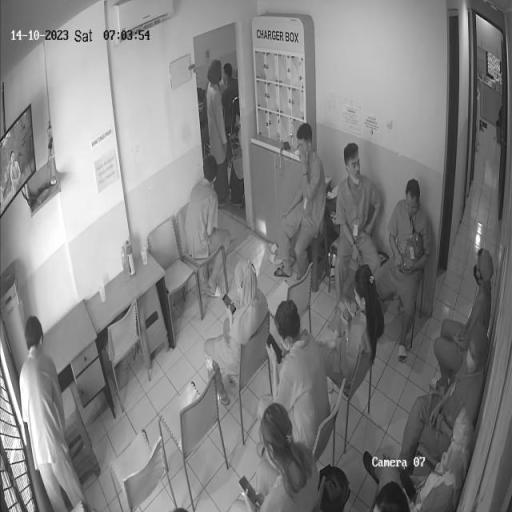person: (19, 316, 93, 512), (401, 325, 489, 475), (365, 406, 476, 512), (259, 301, 332, 456), (372, 179, 431, 363), (232, 402, 320, 512), (205, 257, 269, 405), (432, 250, 495, 395), (316, 265, 385, 388), (335, 145, 384, 308), (276, 125, 327, 280), (186, 156, 231, 299), (207, 62, 230, 208)
